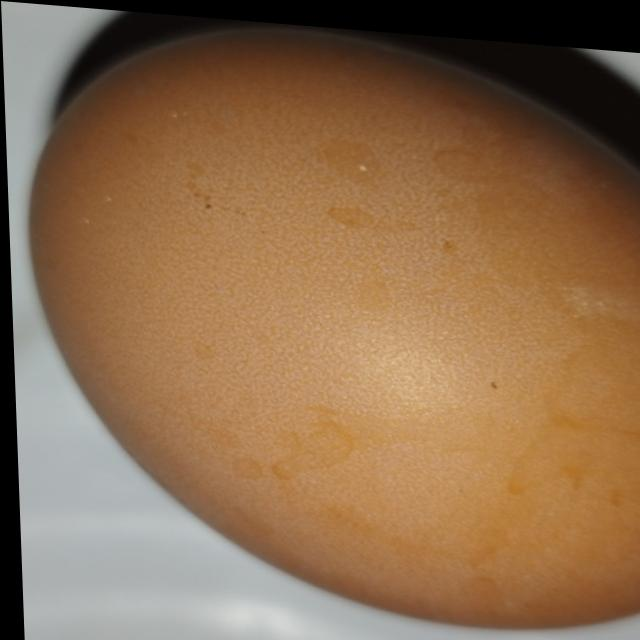fresh: (13, 1, 640, 635)
